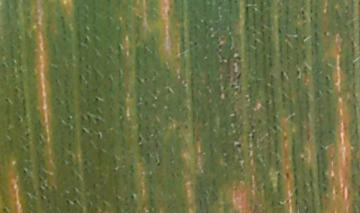tarspot: (59, 14, 67, 43), (2, 95, 12, 105), (234, 70, 243, 81), (233, 141, 242, 150), (95, 130, 103, 140), (295, 67, 300, 82), (270, 123, 278, 132), (298, 155, 307, 163), (1, 206, 11, 213), (279, 69, 285, 80), (154, 158, 161, 167), (284, 170, 290, 180), (299, 7, 306, 15), (20, 167, 28, 174), (276, 27, 283, 35), (12, 86, 20, 93), (175, 124, 181, 133), (302, 64, 308, 73), (313, 30, 319, 39), (326, 127, 332, 136), (192, 40, 199, 47), (128, 193, 135, 200), (301, 20, 307, 28), (323, 72, 329, 80), (183, 123, 189, 131), (322, 185, 328, 193), (322, 30, 328, 37), (300, 15, 307, 21), (65, 199, 71, 206), (263, 98, 270, 104), (93, 96, 99, 102), (71, 199, 77, 205), (318, 144, 323, 151)
